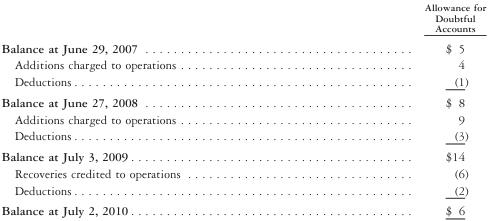table: (0, 1, 485, 217)
table column: (0, 1, 301, 217), (301, 1, 485, 217)
table column header: (0, 1, 485, 37)
table row: (0, 1, 485, 37), (0, 37, 485, 56), (0, 72, 485, 91), (0, 91, 485, 110), (0, 145, 485, 164), (0, 181, 485, 200), (0, 127, 485, 145), (0, 110, 485, 127), (0, 164, 485, 181), (0, 200, 485, 217), (0, 56, 485, 72)
